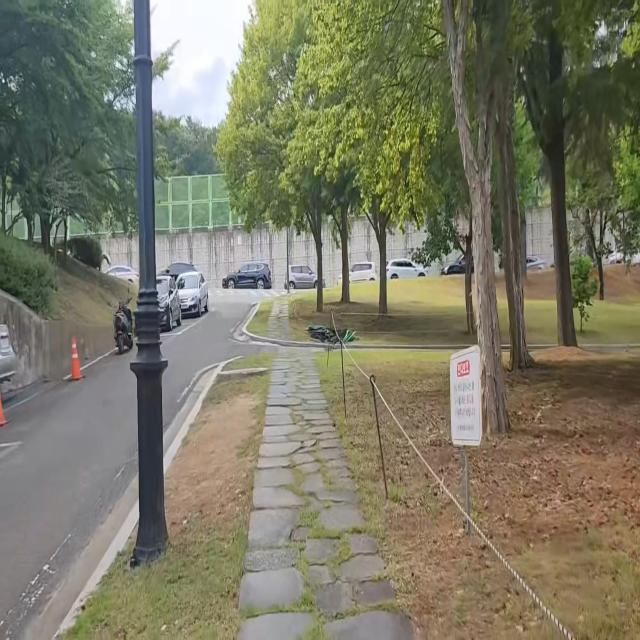obstacle: (129, 0, 169, 550), (158, 258, 215, 333)
road: (0, 295, 264, 640)
sidewalk: (231, 357, 424, 640), (268, 286, 297, 341)
